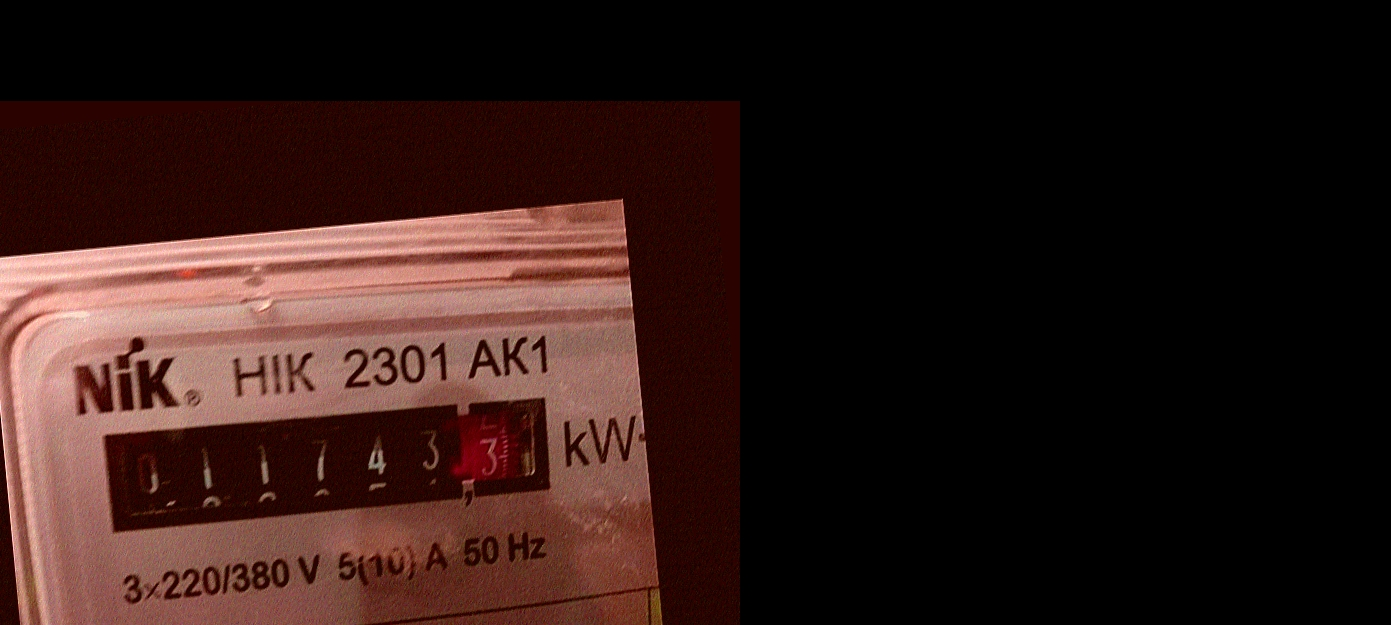0: (127, 449, 161, 499)
1: (247, 440, 272, 490), (192, 445, 214, 495)
3: (410, 426, 443, 475), (472, 435, 500, 481)
4: (357, 430, 389, 480)
7: (303, 436, 331, 487)
screen: (83, 385, 558, 546)
